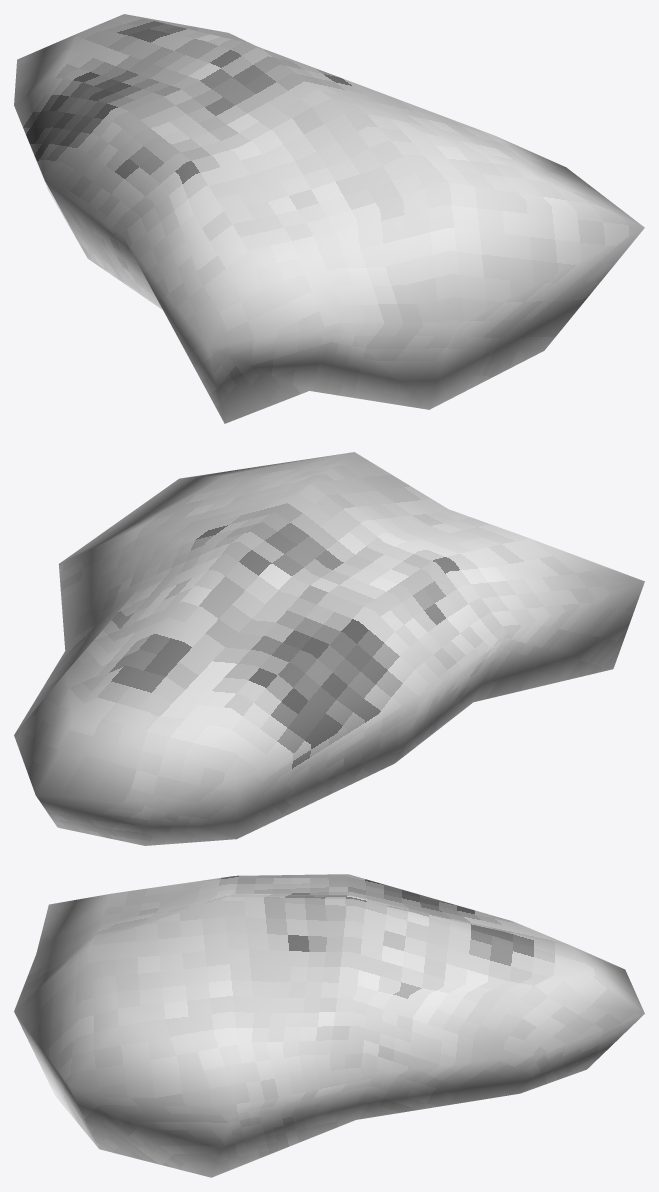
The model's file is ember.fbx.
The picture shows the model from 3 angles, top to bottom: view 1: azimuth 30°, elevation 25°; view 2: azimuth 150°, elevation 25°; view 3: azimuth 270°, elevation 25°; orthographic projection. The views are drawn at different scales.
Visible parts, largest first — view 1: model; view 2: model; view 3: model.
Part boxes in pixels (<box>): model: <box>14,14,644,423</box>; model: <box>14,452,644,845</box>; model: <box>14,874,644,1177</box>.
Size of the model in its own units: 27.21 by 13.63 by 37.97.
1 material, 1 textured.
